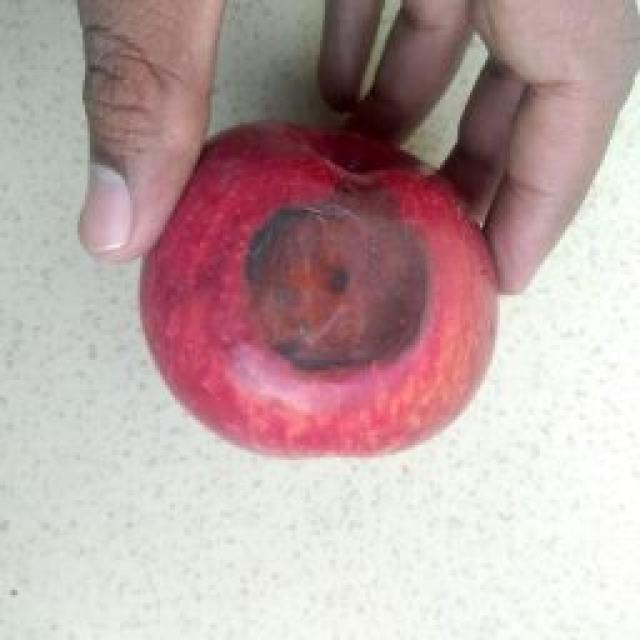Bad_Apple: (141, 125, 495, 456)
